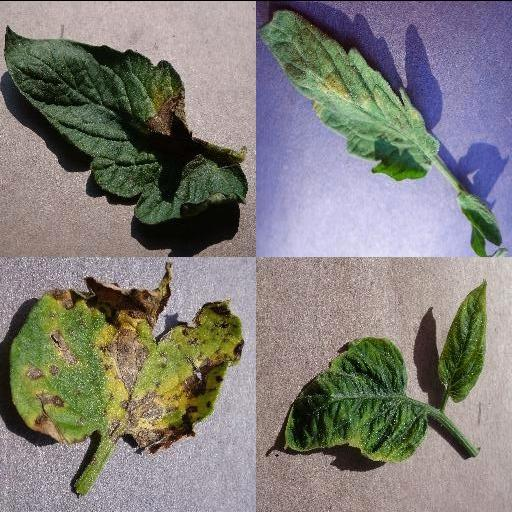Late Blight: (3, 24, 251, 224)
Leaf Mold: (256, 7, 441, 180)
Septoria: (11, 261, 244, 453)
Yellow Leaf Curl Virus: (283, 336, 429, 462), (439, 278, 489, 402)
